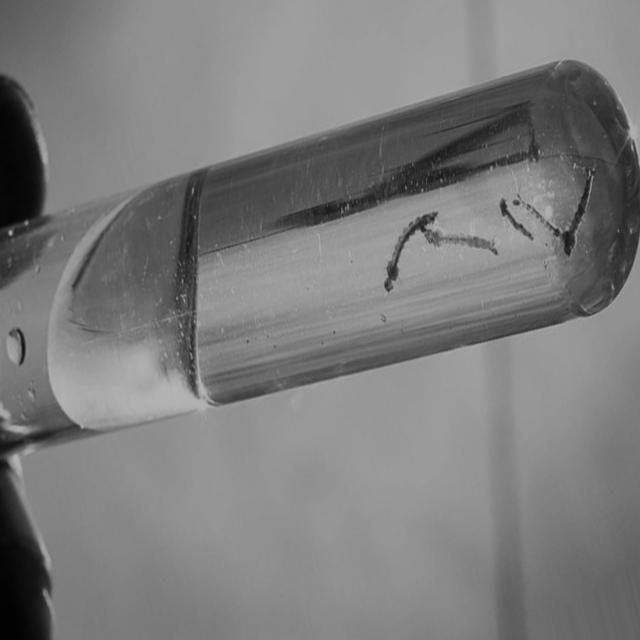larvas: (375, 197, 440, 300), (558, 170, 598, 258), (426, 223, 500, 260), (514, 192, 562, 242), (498, 195, 538, 245)
